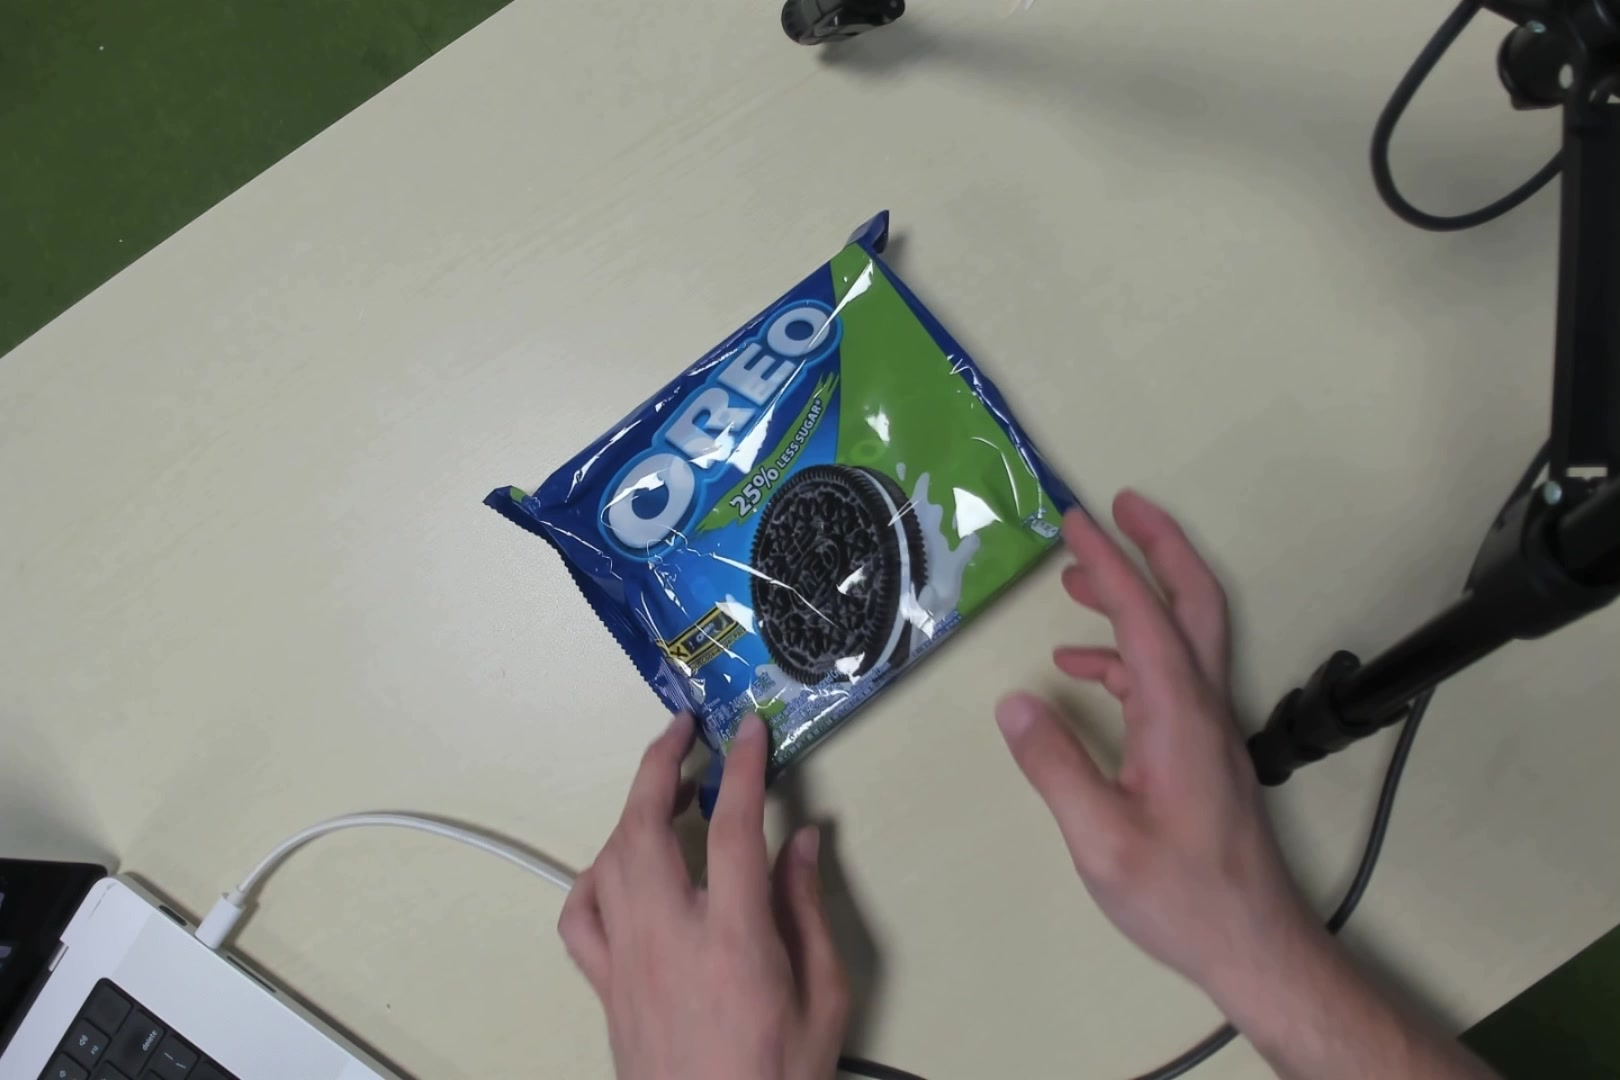SweetsChocolatesOthers_200-299g_Halal_NonHealthy: (559, 258, 993, 704)
